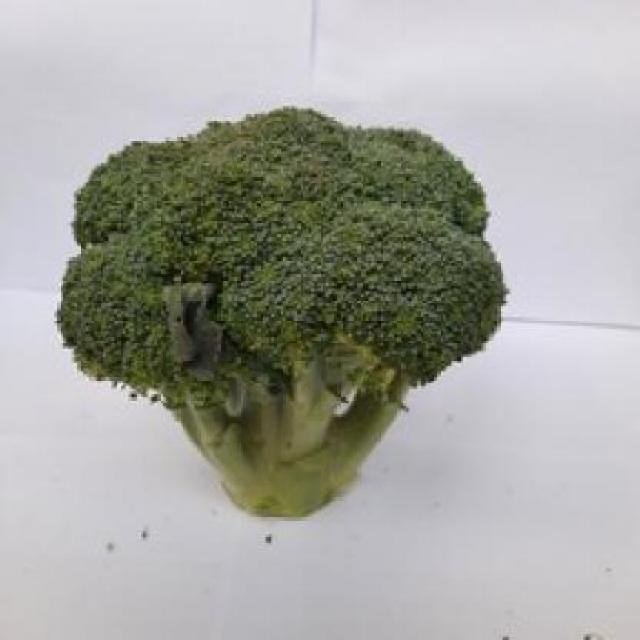broccoli: (57, 112, 514, 514)
